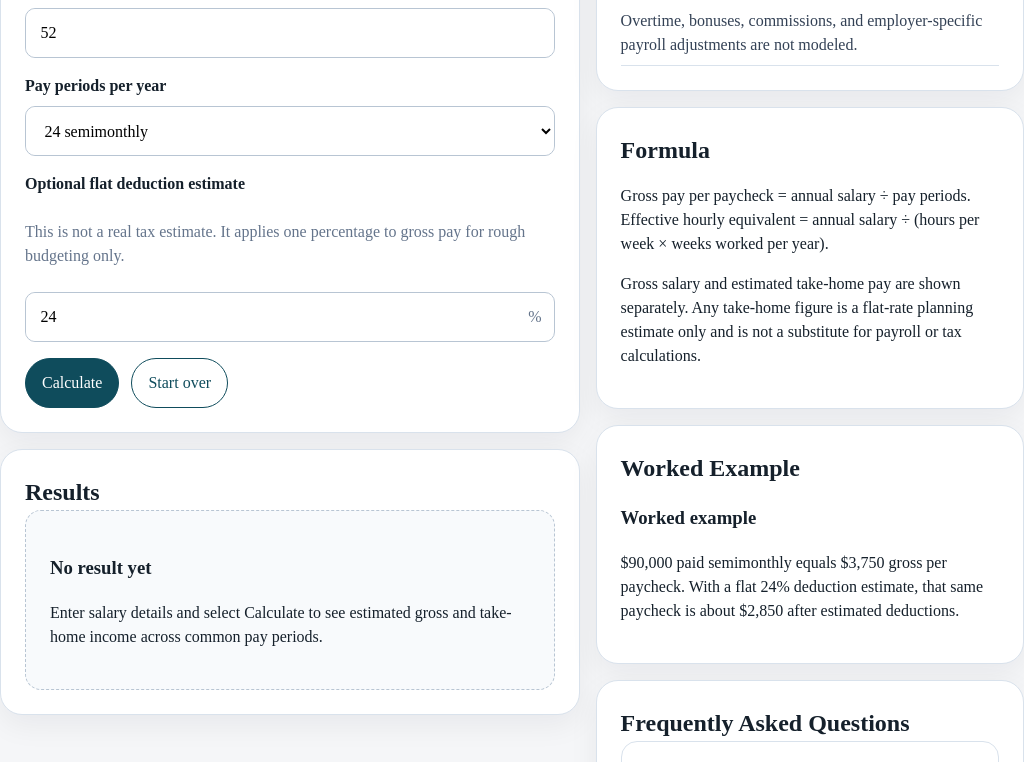
it: calculator layout migration › salary calculator shows an empty state, calculates, and resets
The width and height of the screenshot is (1024, 762).
(page scrolled)
Expected: the heading "No result yet" is shown, left=50, top=557, right=152, bottom=578
Click the button "Calculate": click(72, 383) left=25, top=358, right=119, bottom=408
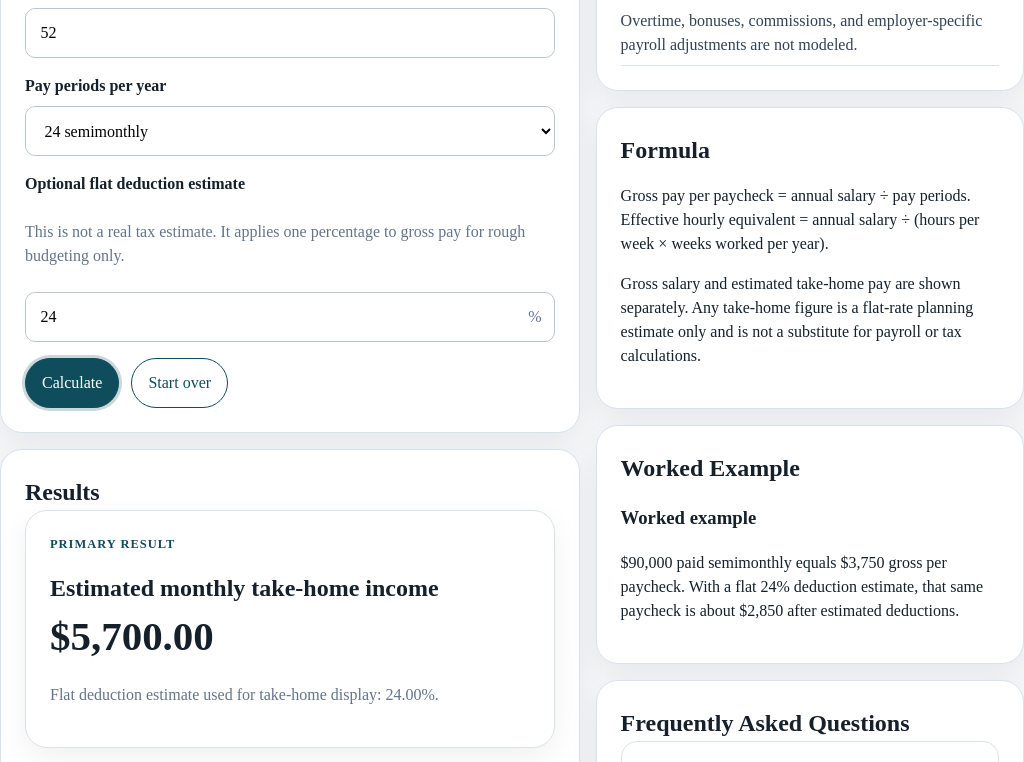
Expected: the heading "Estimated monthly take-home income" is shown, left=50, top=575, right=439, bottom=601
Click the button "Start over": click(180, 383) left=131, top=358, right=228, bottom=408
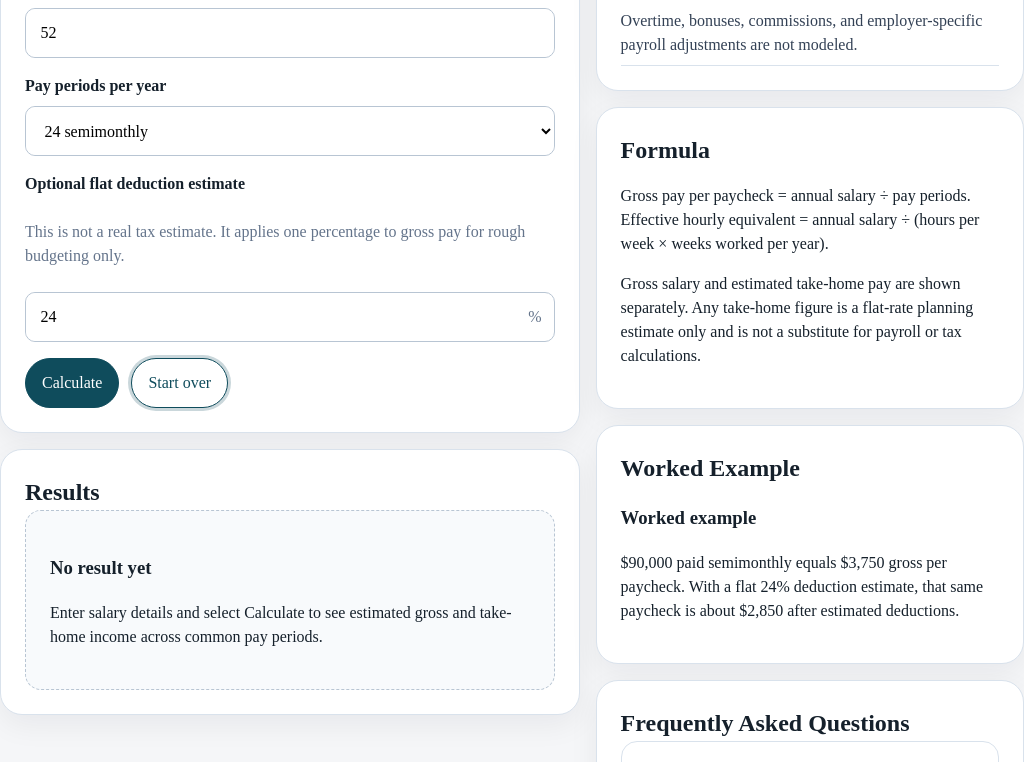
Expected: the heading "No result yet" is shown, left=50, top=557, right=152, bottom=578
